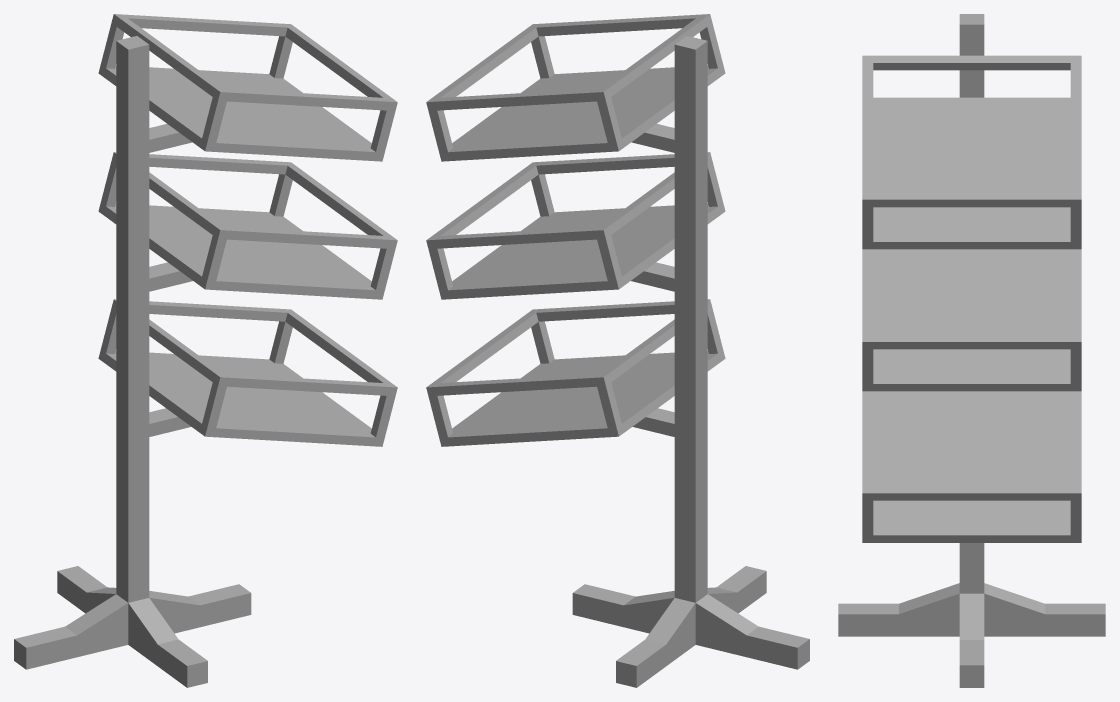
The model's file is SM_nespaperRack_01.glb.
The picture shows the model from 3 angles, left to right: view 1: azimuth 30°, elevation 25°; view 2: azimuth 150°, elevation 25°; view 3: azimuth 270°, elevation 25°; orthographic projection. The views are drawn at different scales.
Visible parts, largest first — view 1: SM_nespaperRack_01; view 2: SM_nespaperRack_01; view 3: SM_nespaperRack_01.
Part boxes in pixels (x1,y1,x2,y2): SM_nespaperRack_01: (14,14,397,687); SM_nespaperRack_01: (426,14,809,687); SM_nespaperRack_01: (838,14,1105,687).
Size of the model in its own units: 0.8938 by 1.57 by 0.6202.
1 material, 1 textured.
